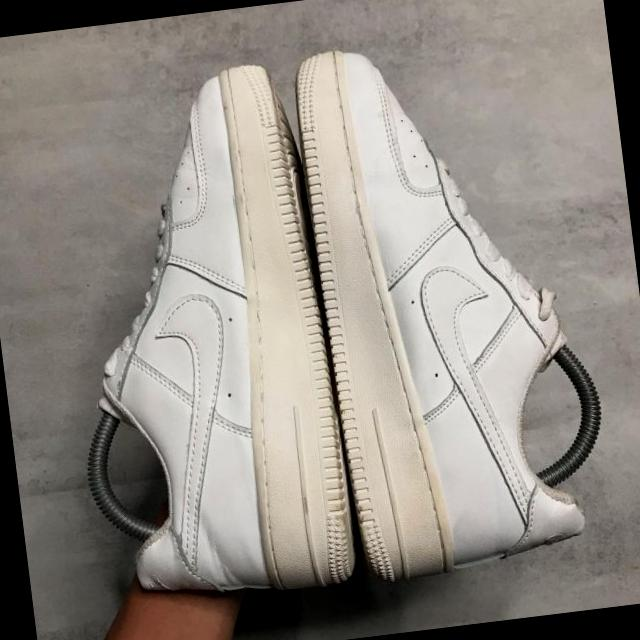nike_fake_airforce: (288, 23, 621, 577), (58, 61, 368, 618)
